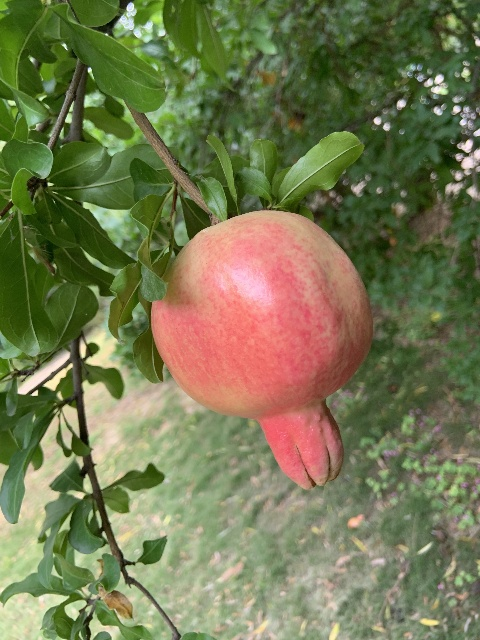ripe: (150, 209, 373, 492)
